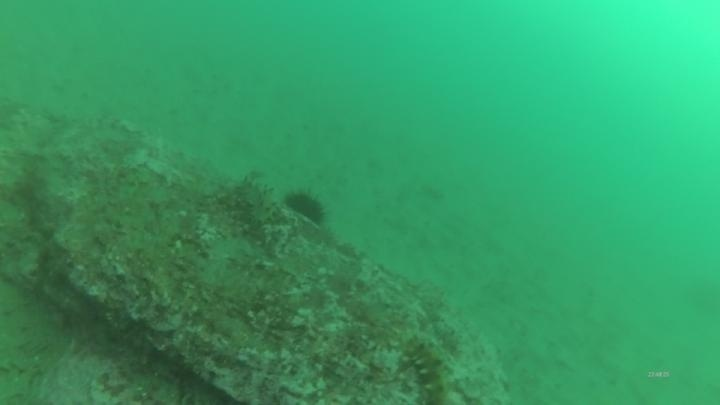echinus: (282, 187, 330, 229)
holothurian: (399, 332, 456, 405), (231, 173, 283, 233)
